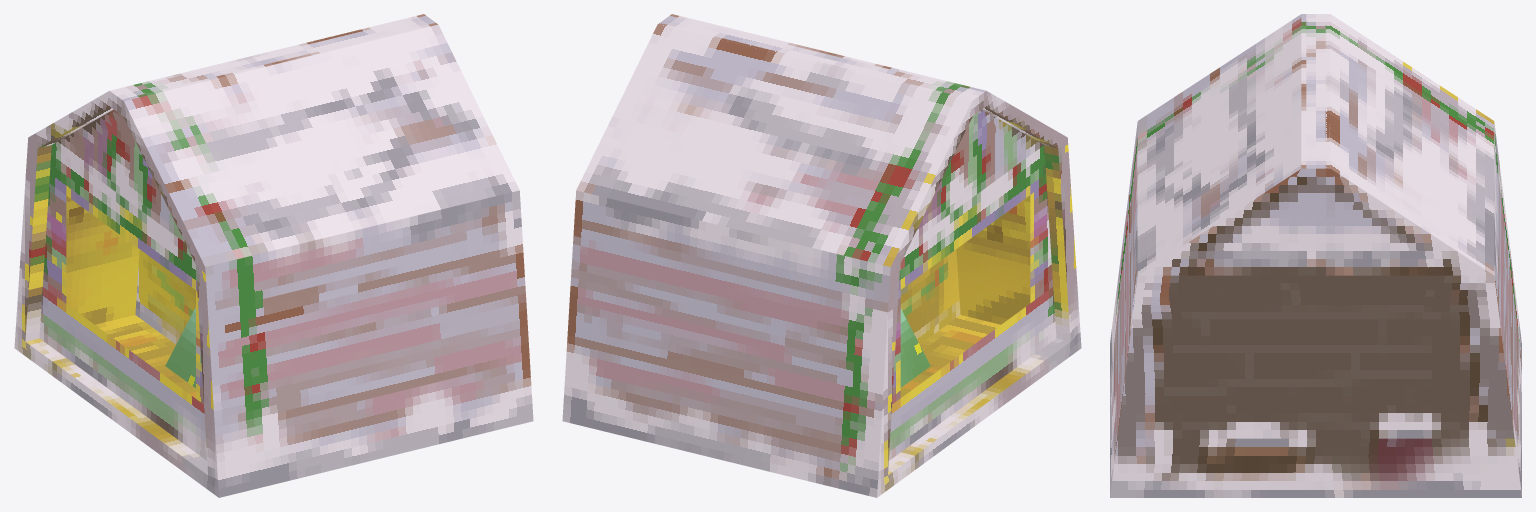
File: ilu-bat.glb
3 renders of one model, left to right at view 1: azimuth 30°, elevation 25°; view 2: azimuth 150°, elevation 25°; view 3: azimuth 270°, elevation 25°, orthographic.
Parts seen in each view (by area): view 1: Plane.001, Cylinder; view 2: Plane.001, Cylinder; view 3: Plane.001.
Part boxes in pixels (x1=…): Plane.001: x1=14, y1=14, x2=533, y2=497; Cylinder: x1=165, y1=307, x2=195, y2=388; Plane.001: x1=562, y1=14, x2=1081, y2=497; Cylinder: x1=900, y1=308, x2=930, y2=387; Plane.001: x1=1110, y1=14, x2=1521, y2=497.
Bounding box in the file's own units: 2.72 × 2.82 × 3.06.
Materials: 7 (7 with a texture image).
